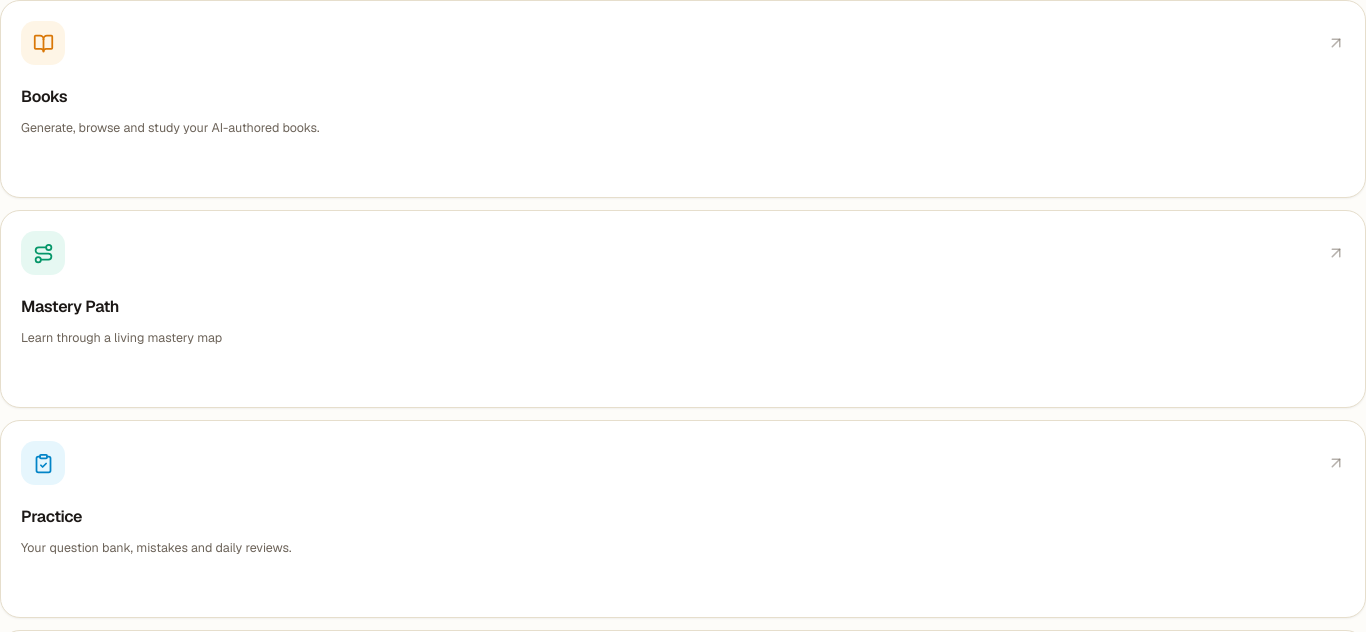
Test: a way introduces itself before it commits you, and hands focus back
Click the button "Mastery Path Learn through a living mastery map".
click(683, 309)  # box [1,211,1365,407]
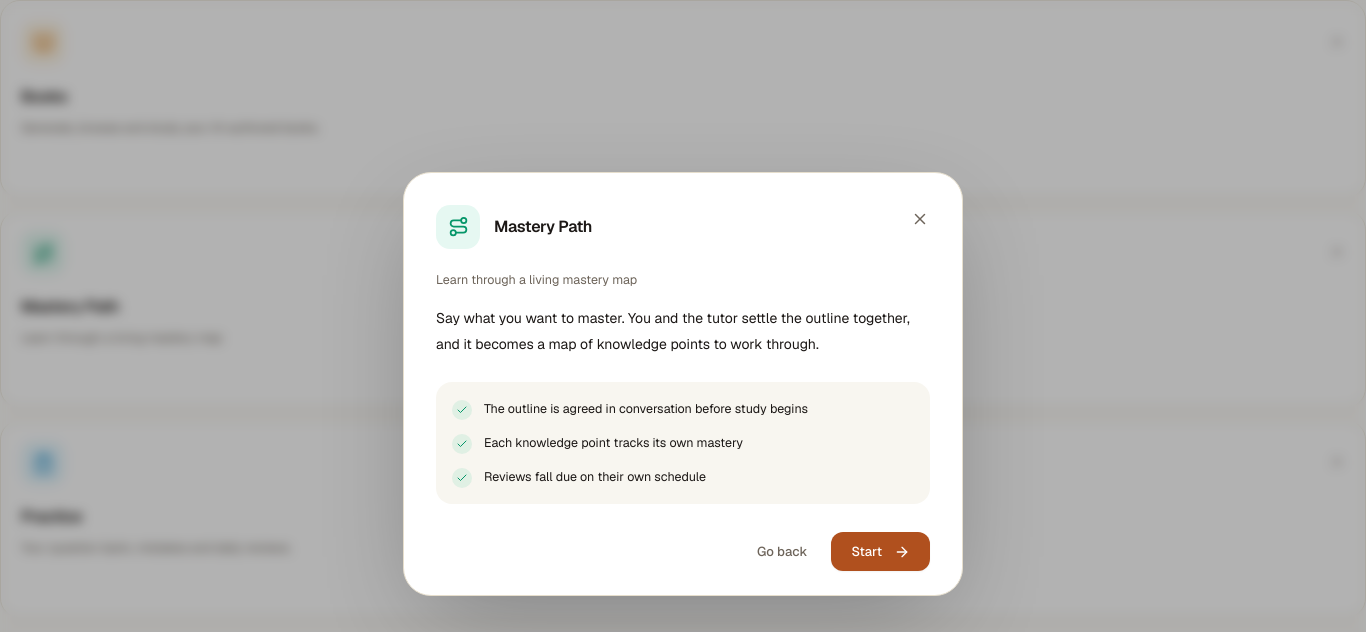
expect the dialog shows "You and the tutor settle the outline together": met, box [436,309,910,353]
Click the button "Go back".
click(782, 552)  # box [741,532,823,571]
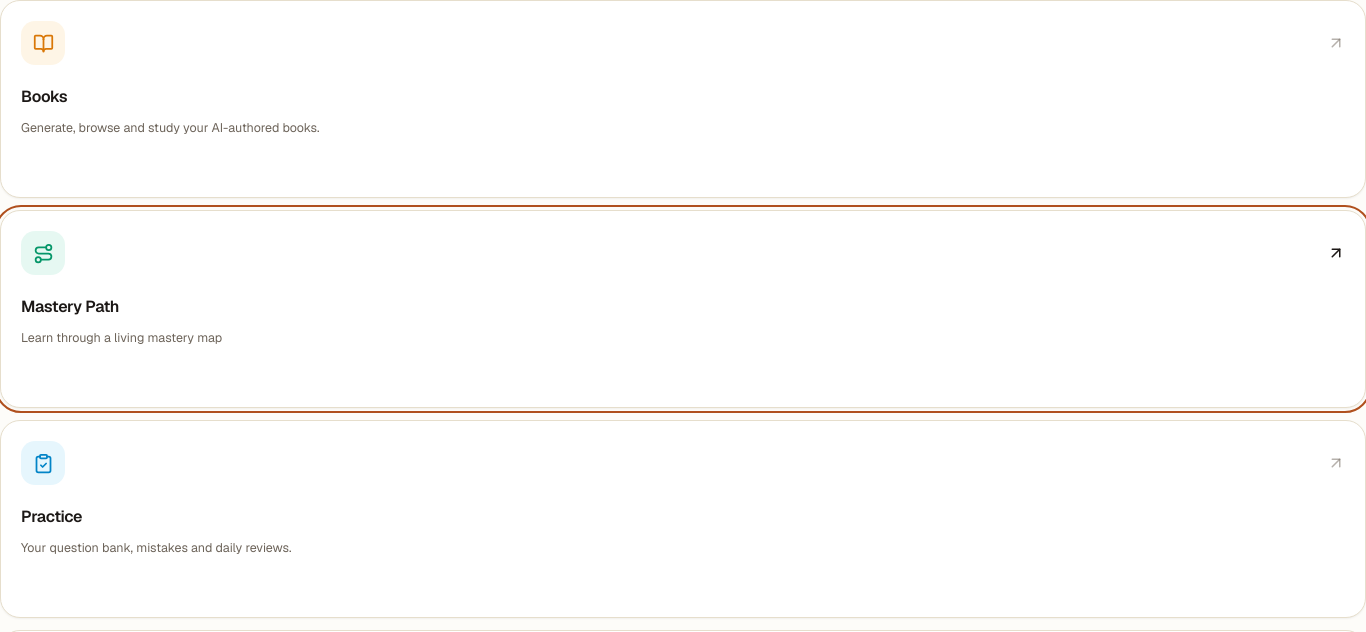
expect the dialog is gone: met
